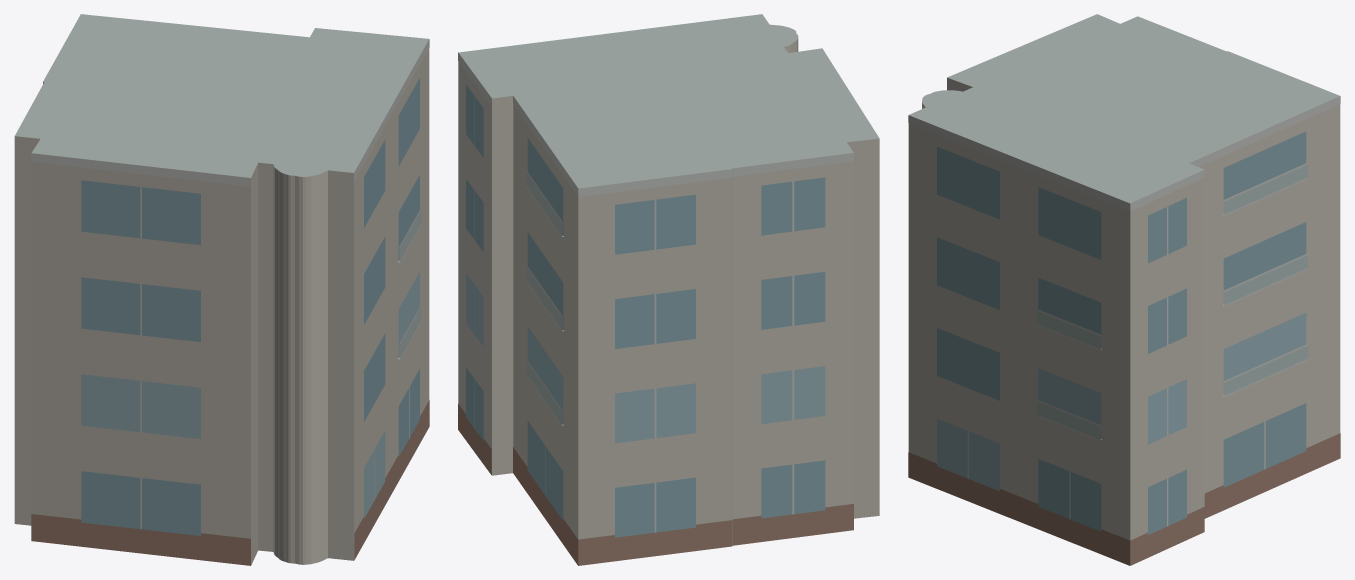
Rendered from survey-upis-32830092.glb.
3 views of the same model, side by side, from view 1: azimuth 30°, elevation 25°; view 2: azimuth 150°, elevation 25°; view 3: azimuth 270°, elevation 25° (orthographic). The views are drawn at different scales.
Parts seen in each view (by area): view 1: survey-upis-32830092.tmp; view 2: survey-upis-32830092.tmp; view 3: survey-upis-32830092.tmp.
Part boxes in pixels (x1=…): survey-upis-32830092.tmp: x1=14, y1=14, x2=429, y2=565; survey-upis-32830092.tmp: x1=458, y1=14, x2=879, y2=565; survey-upis-32830092.tmp: x1=908, y1=14, x2=1340, y2=565.
Bounding box in the file's own units: 12.29 × 10.95 × 11.84.
